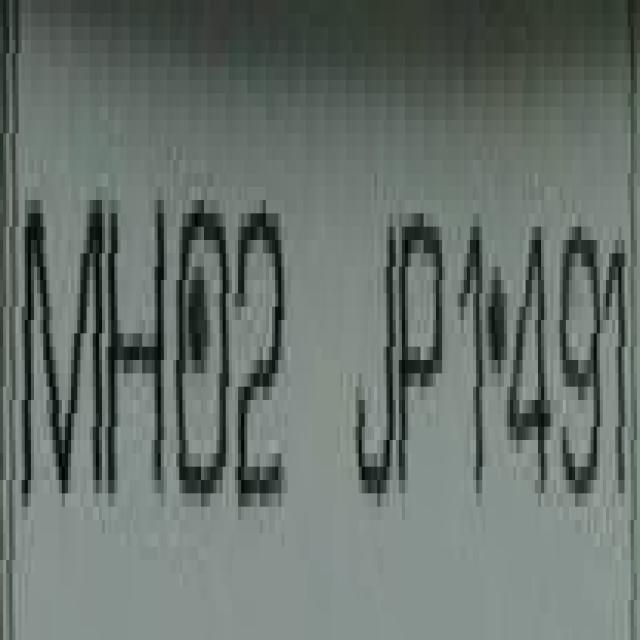plate: (28, 54, 634, 614)
